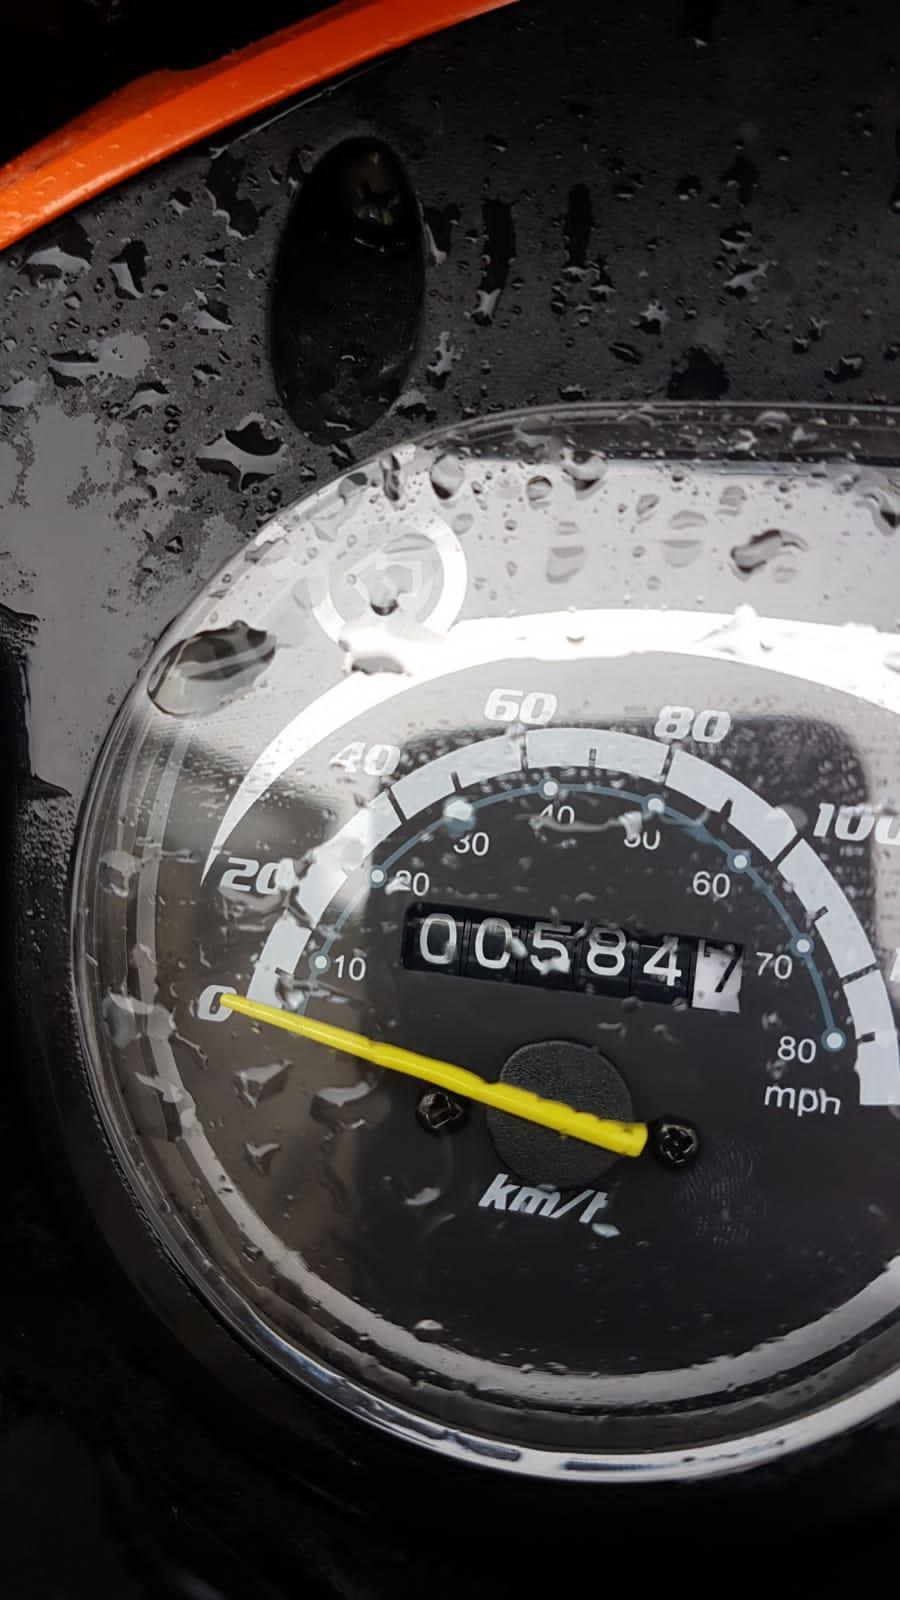0: (416, 911, 457, 964), (474, 916, 513, 970)
4: (641, 935, 682, 987)
5: (527, 920, 571, 975)
7: (702, 938, 744, 992)
8: (585, 925, 627, 977)
odometer: (395, 897, 748, 1018)
